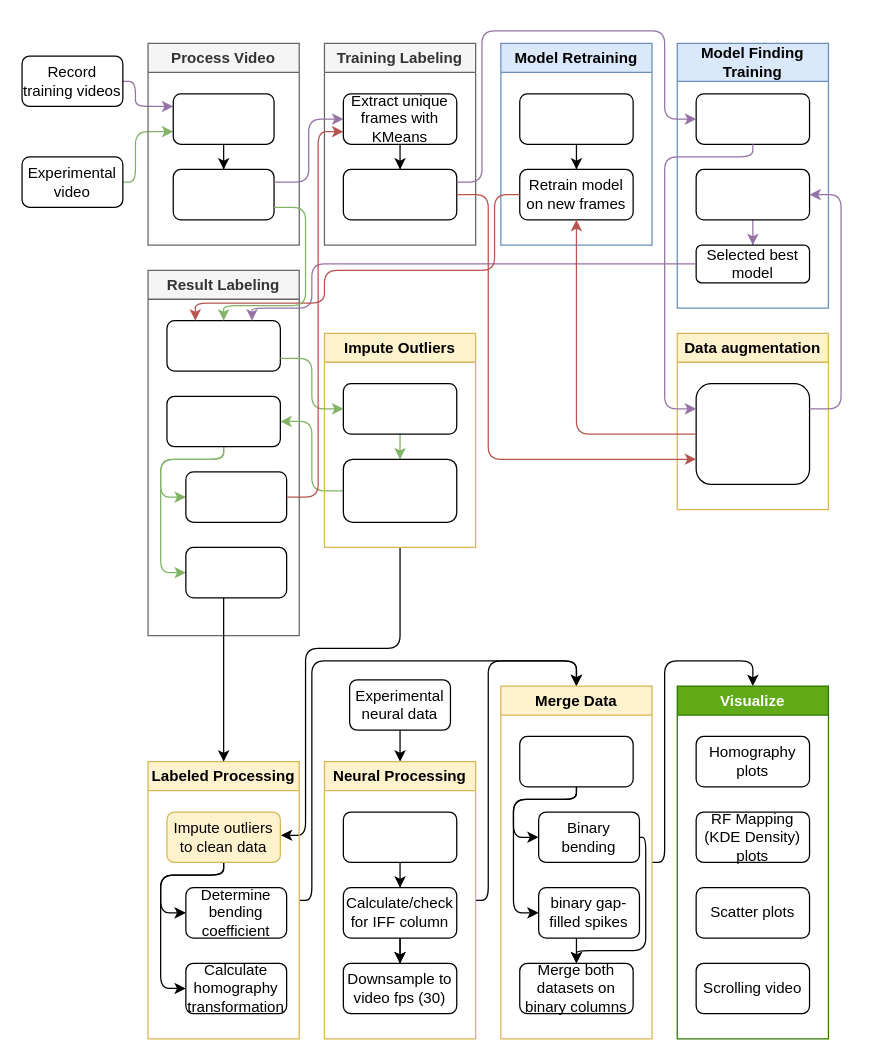
The diagram is 873 pixels wide and 1061 high, and some of its shapes have lost their labels. Each missing label, with the centre of its shape:
Bad result, retraining: point (236, 496)
Create binary columns: point (575, 761)
Crop video: point (223, 118)
Detect outliers via point velocity: point (399, 408)
DLC defaults; flipping, rotation, scaling, etc: point (752, 433)
Fill to original frequency: point (399, 836)
Good result, post-processing: point (236, 572)
Label frames with Napari-DLC: point (399, 194)
Load best model: point (575, 118)
Play labeled video: point (223, 421)
Predict on video with model: point (223, 345)
Replace outliers via Iterative Imputer: point (399, 490)
Set to size 1274x720, 30 fps: point (223, 194)
Split train-test: point (752, 118)
Trained the viable models: point (752, 194)
